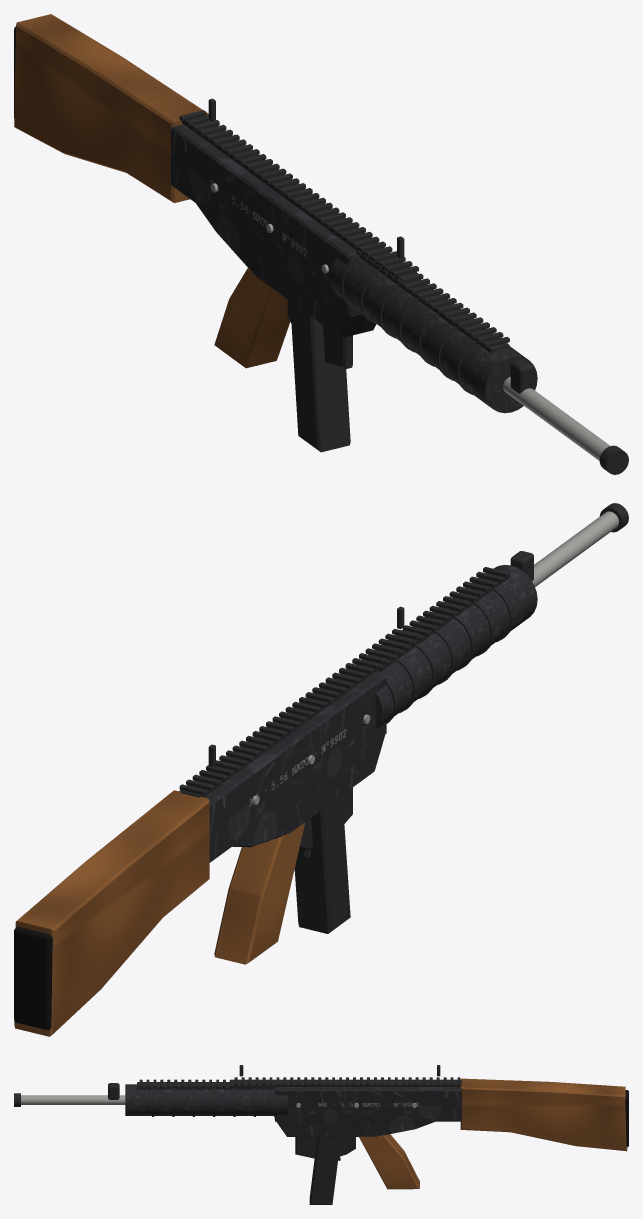
Rendered from 09-carabine-m4.glb.
3 views of the same model, one above another, from view 1: azimuth 30°, elevation 25°; view 2: azimuth 150°, elevation 25°; view 3: azimuth 270°, elevation 25° (orthographic). The views are drawn at different scales.
Bounding box in the file's own units: 0.058 × 0.2582 × 1.06.
8 materials, 3 textured.
